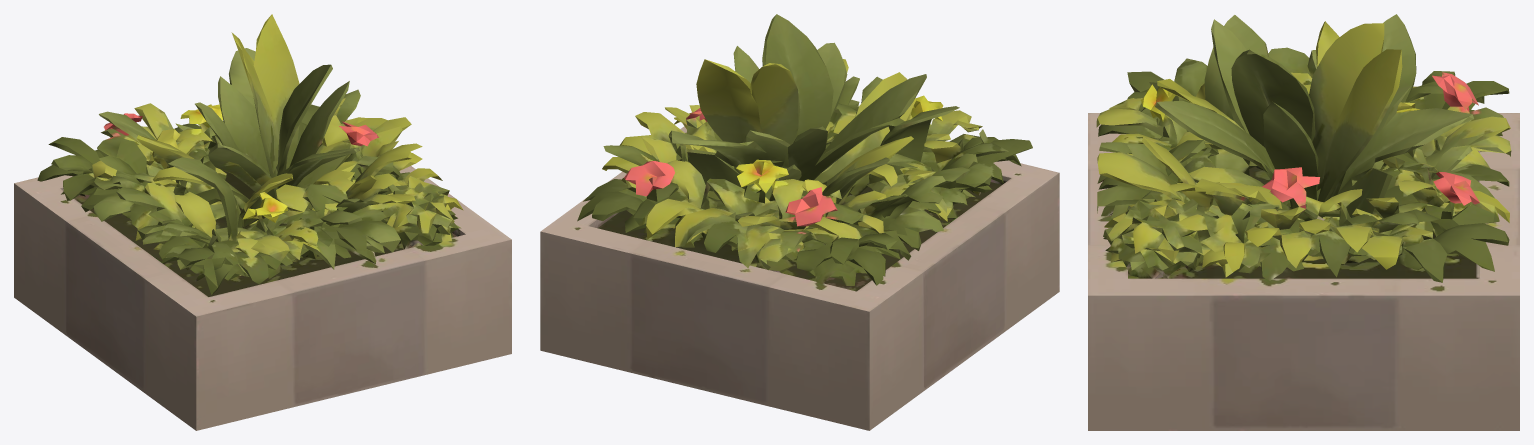
File: planter_square.glb
The picture shows the model from 3 angles, left to right: view 1: azimuth 30°, elevation 25°; view 2: azimuth 150°, elevation 25°; view 3: azimuth 270°, elevation 25°; orthographic projection. The views are drawn at different scales.
Visible parts, largest first — view 1: body; view 2: body; view 3: body.
Boxes of the visible parts, x1,y1,x2,y2 form: body: (14, 14, 511, 430); body: (540, 14, 1059, 430); body: (1088, 14, 1519, 430).
Bounding box in the file's own units: 1.3 × 1.06 × 1.3.
1 material, 1 textured.
